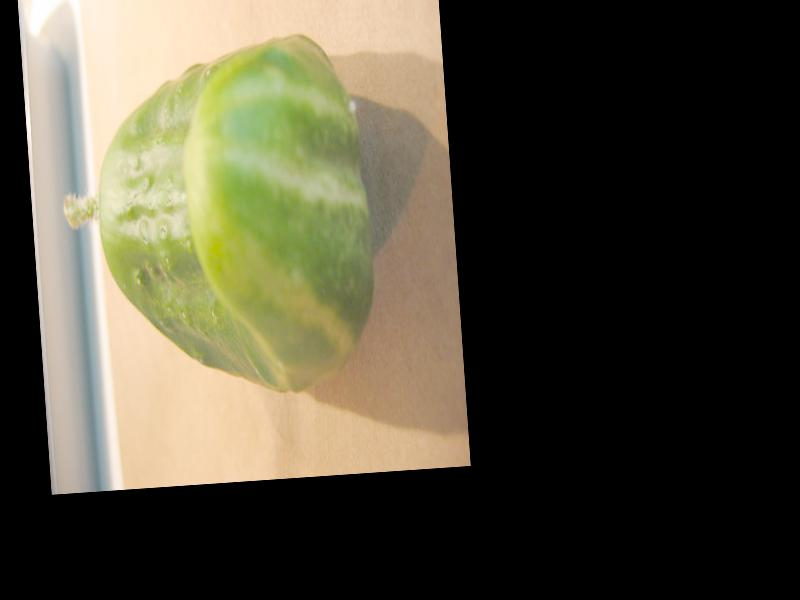Cucumber: (51, 27, 382, 404)
